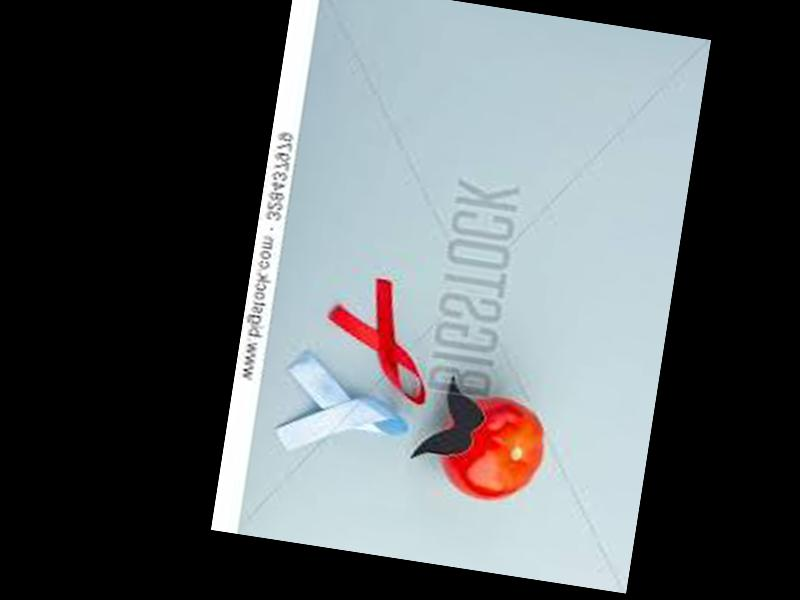Tomato: (434, 389, 551, 506)
